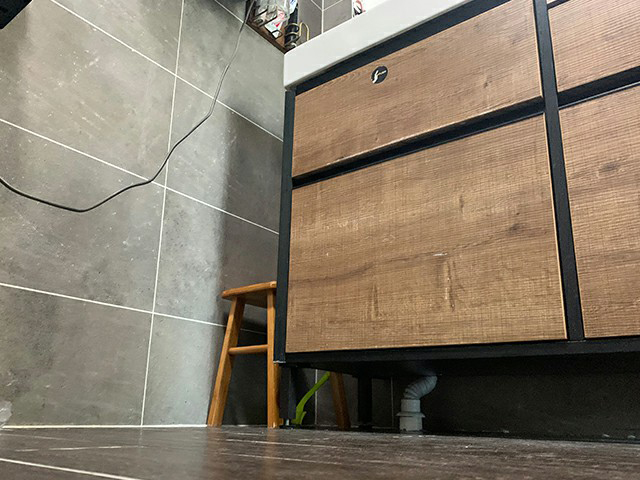cabinet: (273, 1, 640, 430)
stool: (205, 276, 281, 431)
